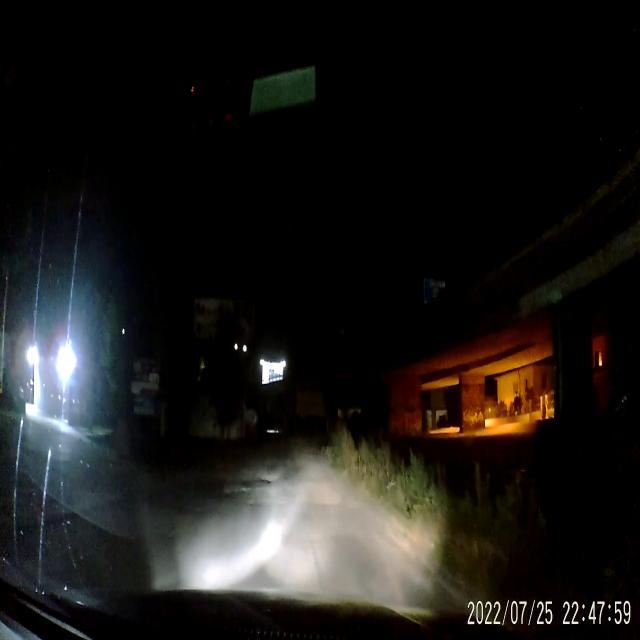Manhole: (237, 476, 272, 487)
